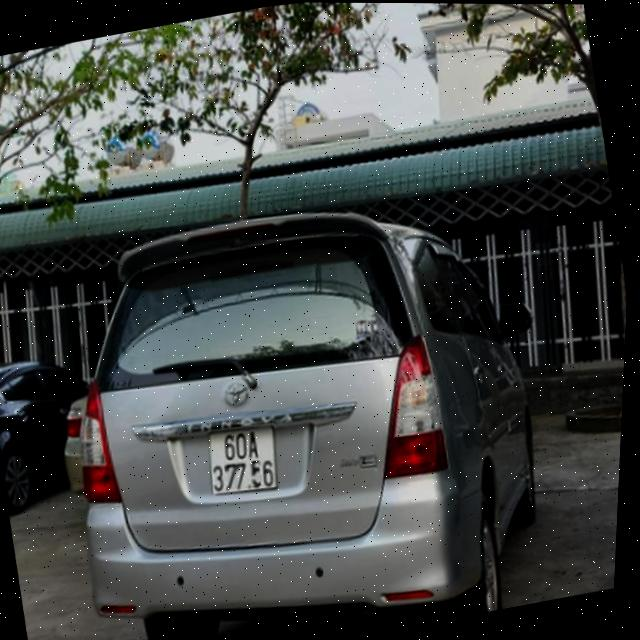car: (30, 167, 592, 640), (0, 349, 99, 516)
plate: (190, 414, 295, 511)
